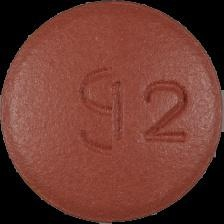68258-3002: (0, 0, 224, 224)
